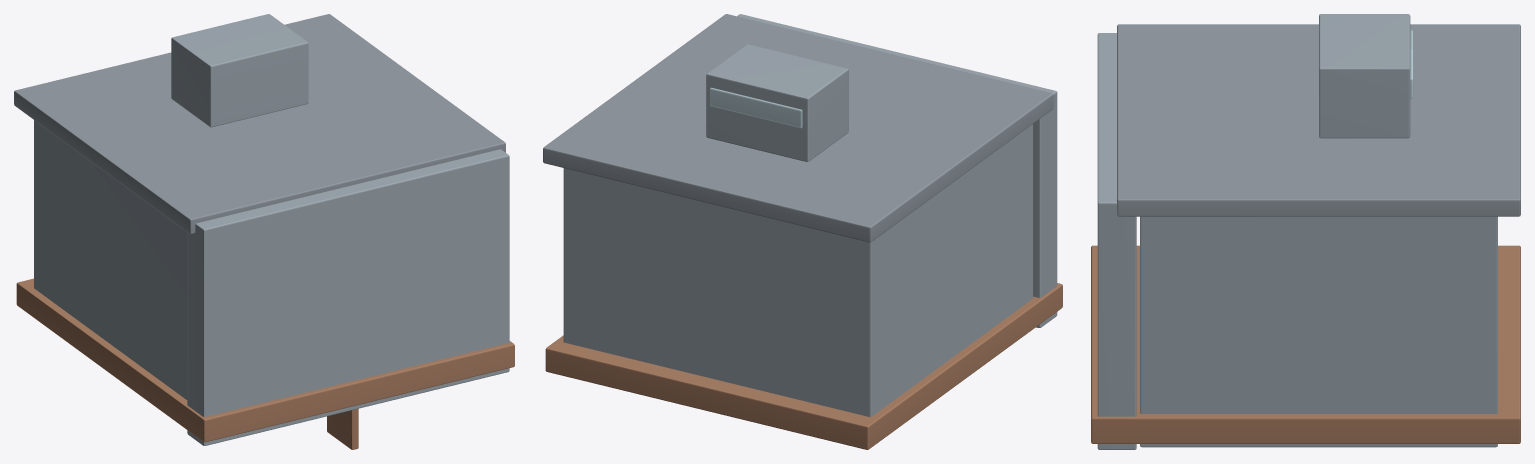
File: hull_stern.glb
3 views of the same model, side by side, from view 1: azimuth 30°, elevation 25°; view 2: azimuth 150°, elevation 25°; view 3: azimuth 270°, elevation 25° (orthographic). The views are drawn at different scales.
Visible parts, largest first — view 1: hull_stern; view 2: hull_stern; view 3: hull_stern.
Boxes of the visible parts, x1,y1,x2,y2 form: hull_stern: (14, 14, 514, 449); hull_stern: (543, 14, 1062, 449); hull_stern: (1091, 14, 1520, 449).
Bounding box in the file's own units: 6.4 × 6.3 × 6.6.
